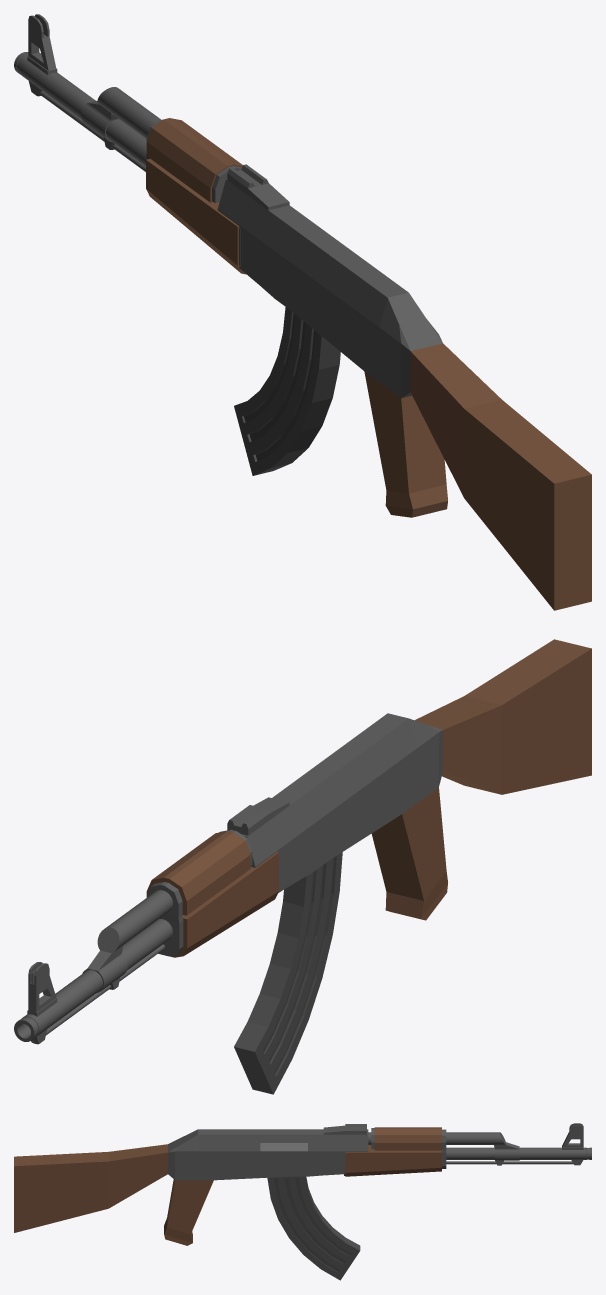
File: AutomaticRifle.fbx
The picture shows the model from 3 angles, top to bottom: view 1: azimuth 30°, elevation 25°; view 2: azimuth 150°, elevation 25°; view 3: azimuth 270°, elevation 25°; orthographic projection. The views are drawn at different scales.
Parts seen in each view (by area): view 1: GunBody, Magazine; view 2: GunBody, Magazine; view 3: GunBody, Magazine.
Boxes of the visible parts, left/top/right/bottom form: GunBody: left=14, top=14, right=591, bottom=610; Magazine: left=234, top=307, right=340, bottom=475; GunBody: left=14, top=639, right=591, bottom=1044; Magazine: left=234, top=852, right=342, bottom=1094; GunBody: left=14, top=1123, right=591, bottom=1245; Magazine: left=267, top=1176, right=360, bottom=1280.
Size of the model in its own units: 219 by 1479 by 5041.
